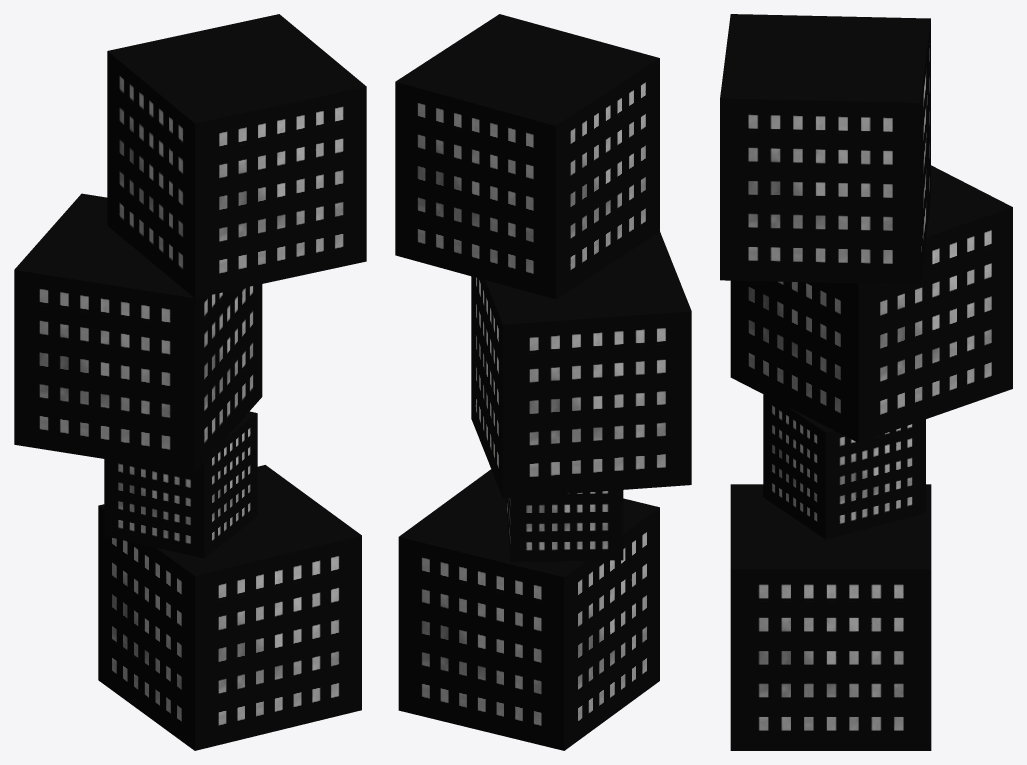
The model's file is house01.dae.
The picture shows the model from 3 angles, left to right: view 1: azimuth 30°, elevation 25°; view 2: azimuth 150°, elevation 25°; view 3: azimuth 270°, elevation 25°; orthographic projection. The views are drawn at different scales.
Parts seen in each view (by area): view 1: polySurface1; view 2: polySurface1; view 3: polySurface1.
Part boxes in pixels (x1,y1,x2,y2): polySurface1: (14, 14, 366, 750); polySurface1: (395, 14, 691, 750); polySurface1: (720, 14, 1012, 750).
Bounding box in the file's own units: 18.72 × 39.8 × 16.2.
Materials: 1 (1 with a texture image).
